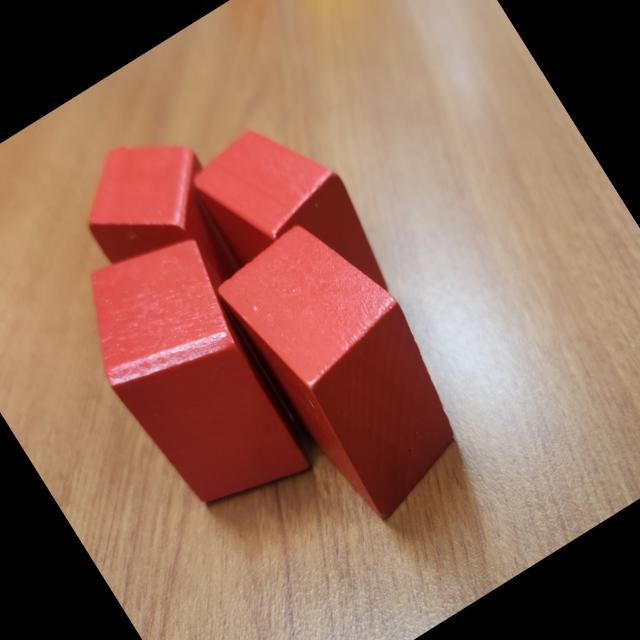red: (207, 197, 494, 533), (53, 214, 336, 541), (182, 100, 406, 350), (58, 113, 264, 335)
